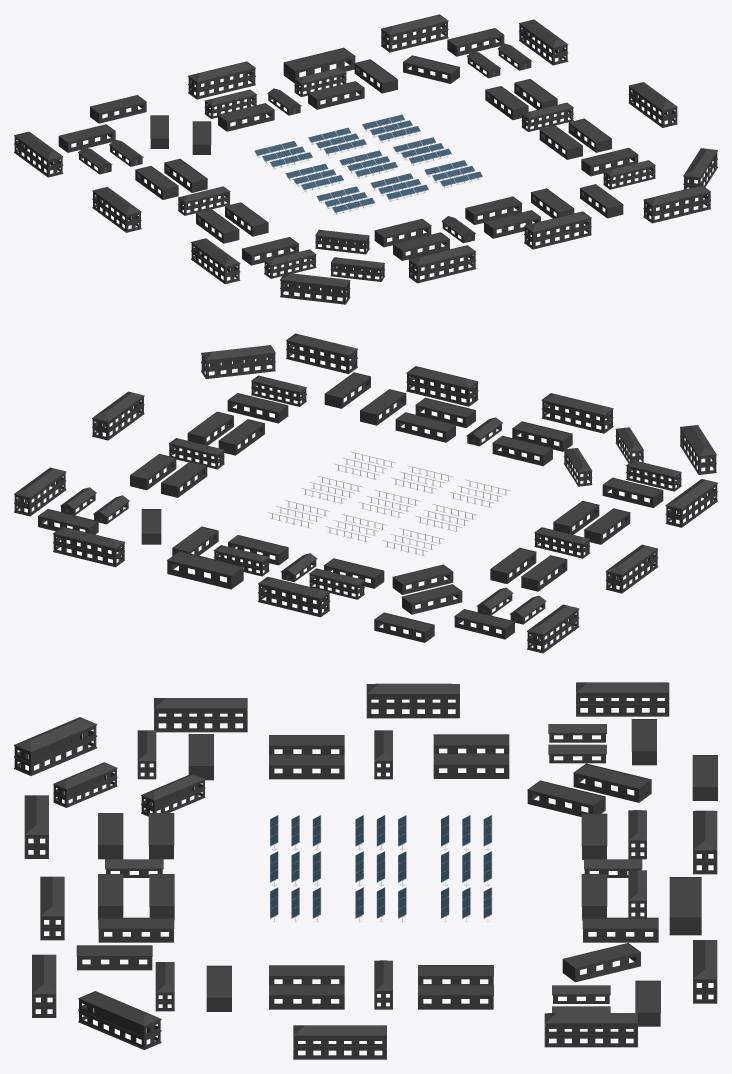
Rendered from techPhotoSquare_compress.glb.
The picture shows the model from 3 angles, top to bottom: view 1: azimuth 30°, elevation 25°; view 2: azimuth 150°, elevation 25°; view 3: azimuth 270°, elevation 25°; orthographic projection. The views are drawn at different scales.
Visible parts, largest first — view 1: room3.017, room3.007, room3.015, room3.016, room3.019, room3.008, room3.009, room3.013, room3.011, room3.010, room3.012, room2.022 (+40 smaller); view 2: room3.014, room3.007, room3.008, room3.019, room3.016, room3.015, room2.022, room3.012, room3.010, room3.009, room3.013, room3.011 (+40 smaller); view 3: room3.012, room3.009, room3.011, room3.010, room3.013, room3.017, room3.014, room2.022, room2.007, room2.024, room2.006, room2.023 (+39 smaller).
Boxes of the visible parts, <box> form: room3.017: <box>280,272,350,304</box>; room3.007: <box>188,61,255,99</box>; room3.015: <box>408,245,476,283</box>; room3.016: <box>524,211,591,249</box>; room3.019: <box>643,185,710,223</box>; room3.008: <box>381,14,448,52</box>; room3.009: <box>519,19,568,65</box>; room3.013: <box>14,131,63,177</box>; room3.011: <box>191,238,240,284</box>; room3.010: <box>628,82,677,127</box>; room3.012: <box>92,187,141,232</box>; room2.022: <box>283,47,355,83</box>; room3.014: <box>201,345,275,378</box>; room3.007: <box>258,576,330,617</box>; room3.008: <box>53,526,124,567</box>; room3.019: <box>286,333,357,373</box>; room3.016: <box>406,366,478,406</box>; room3.015: <box>541,393,613,433</box>; room2.022: <box>167,551,243,589</box>; room3.012: <box>605,544,658,593</box>; room3.010: <box>92,391,144,440</box>; room3.009: <box>14,467,66,516</box>; room3.013: <box>527,604,579,653</box>; room3.011: <box>665,479,717,527</box>; room3.012: <box>366,683,459,718</box>; room3.009: <box>544,1013,637,1047</box>; room3.011: <box>154,698,247,732</box>; room3.010: <box>293,1025,386,1059</box>; room3.013: <box>576,682,669,716</box>; room3.017: <box>14,717,97,775</box>; room3.014: <box>78,991,161,1049</box>; room2.022: <box>669,877,701,935</box>; room2.007: <box>573,763,651,802</box>; room2.024: <box>562,943,640,982</box>; room2.006: <box>582,917,658,942</box>; room2.023: <box>76,945,152,970</box>.
Size of what is drawn, in the model's own units: 469 by 18.14 by 395.
5 materials, 1 textured.
